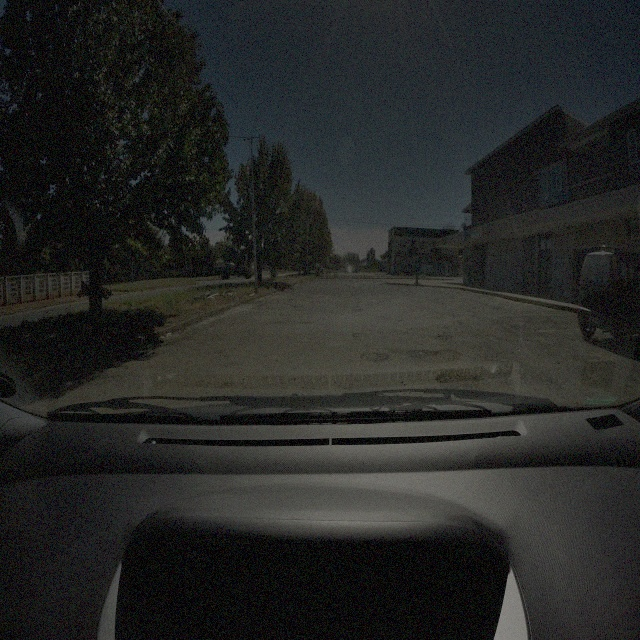pothole: (406, 345, 462, 364), (436, 370, 482, 388), (359, 350, 390, 365), (433, 330, 452, 344)
